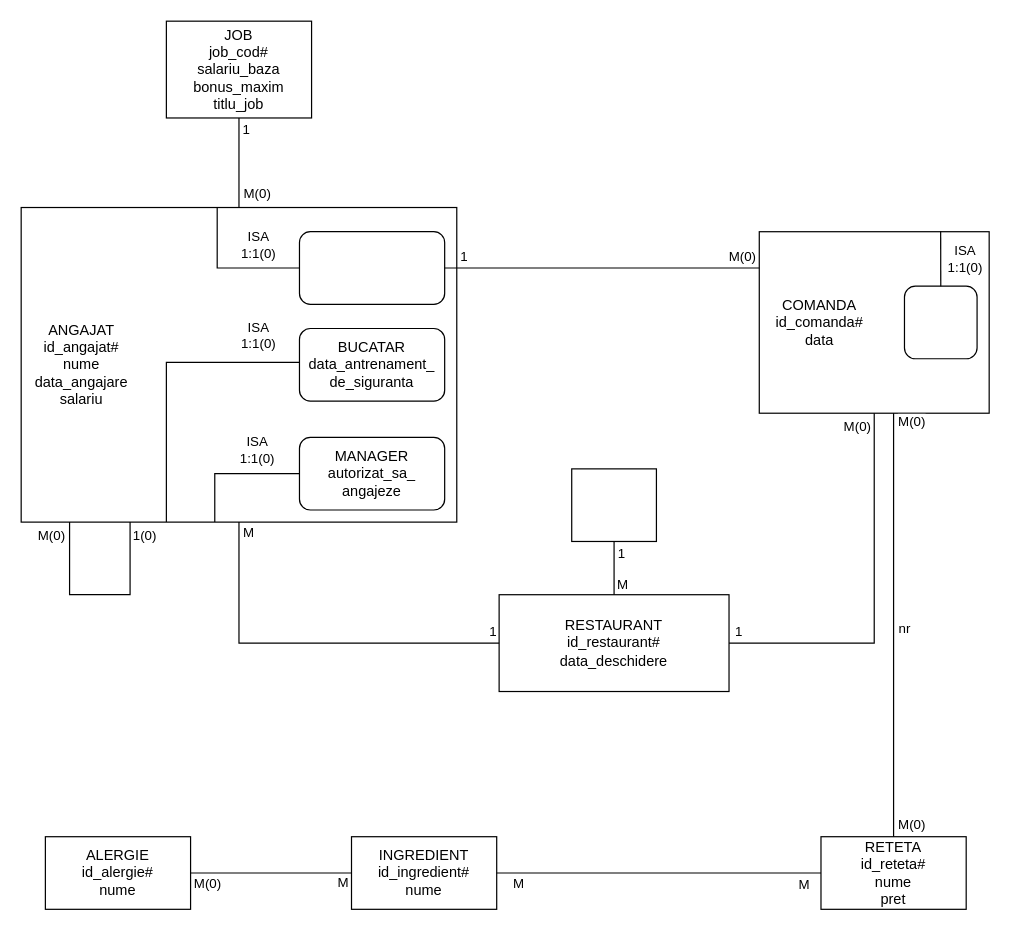
This 1010x930 diagram has some shape labels left out. Each missing label, with the centre of its shape:
"CASIER nr_casa_de_marcat" belongs at (371,267).
"LIVRARE adresa cost" belongs at (940,322).
"ORAS id_oras# nume" belongs at (613,504).
